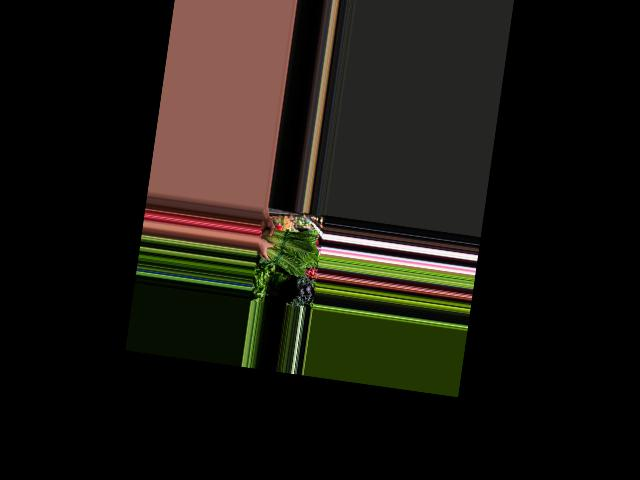lettuce: (253, 224, 319, 279)
